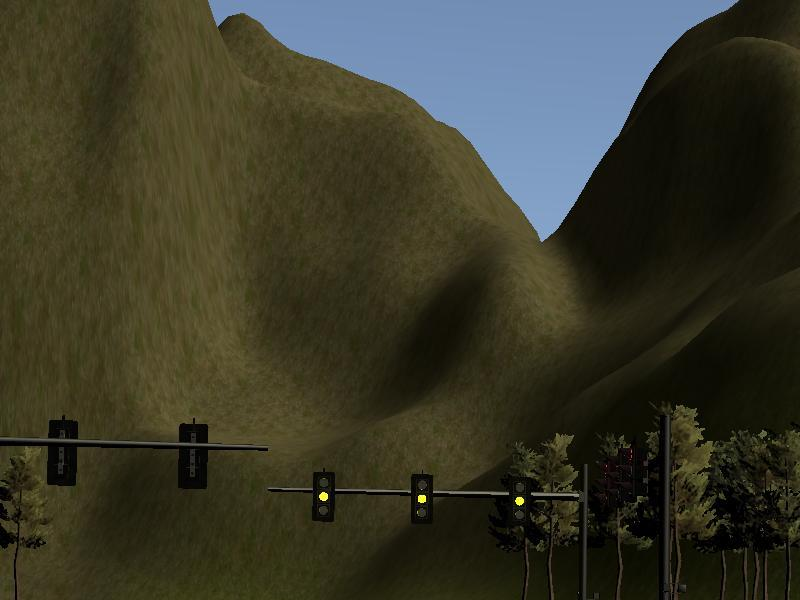Yellow: (410, 474, 434, 525), (312, 471, 335, 523), (508, 476, 531, 526)
